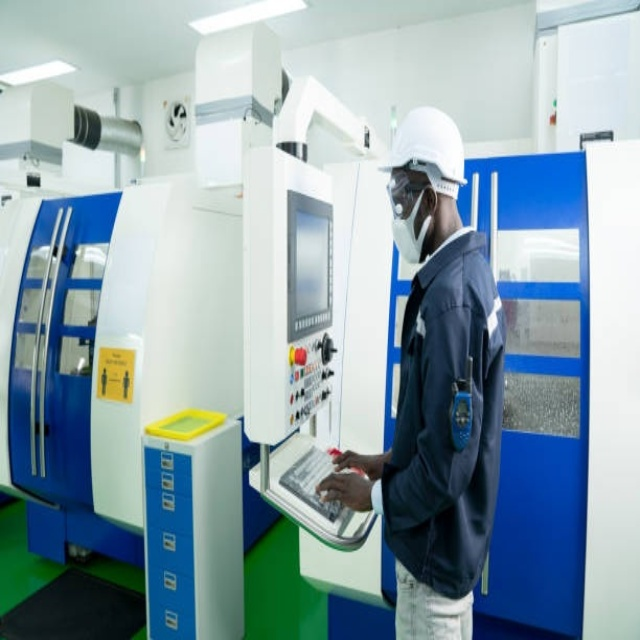Gafas: (386, 174, 434, 218)
Mascara: (389, 181, 434, 264)
Sin_guantes: (315, 467, 372, 513)
